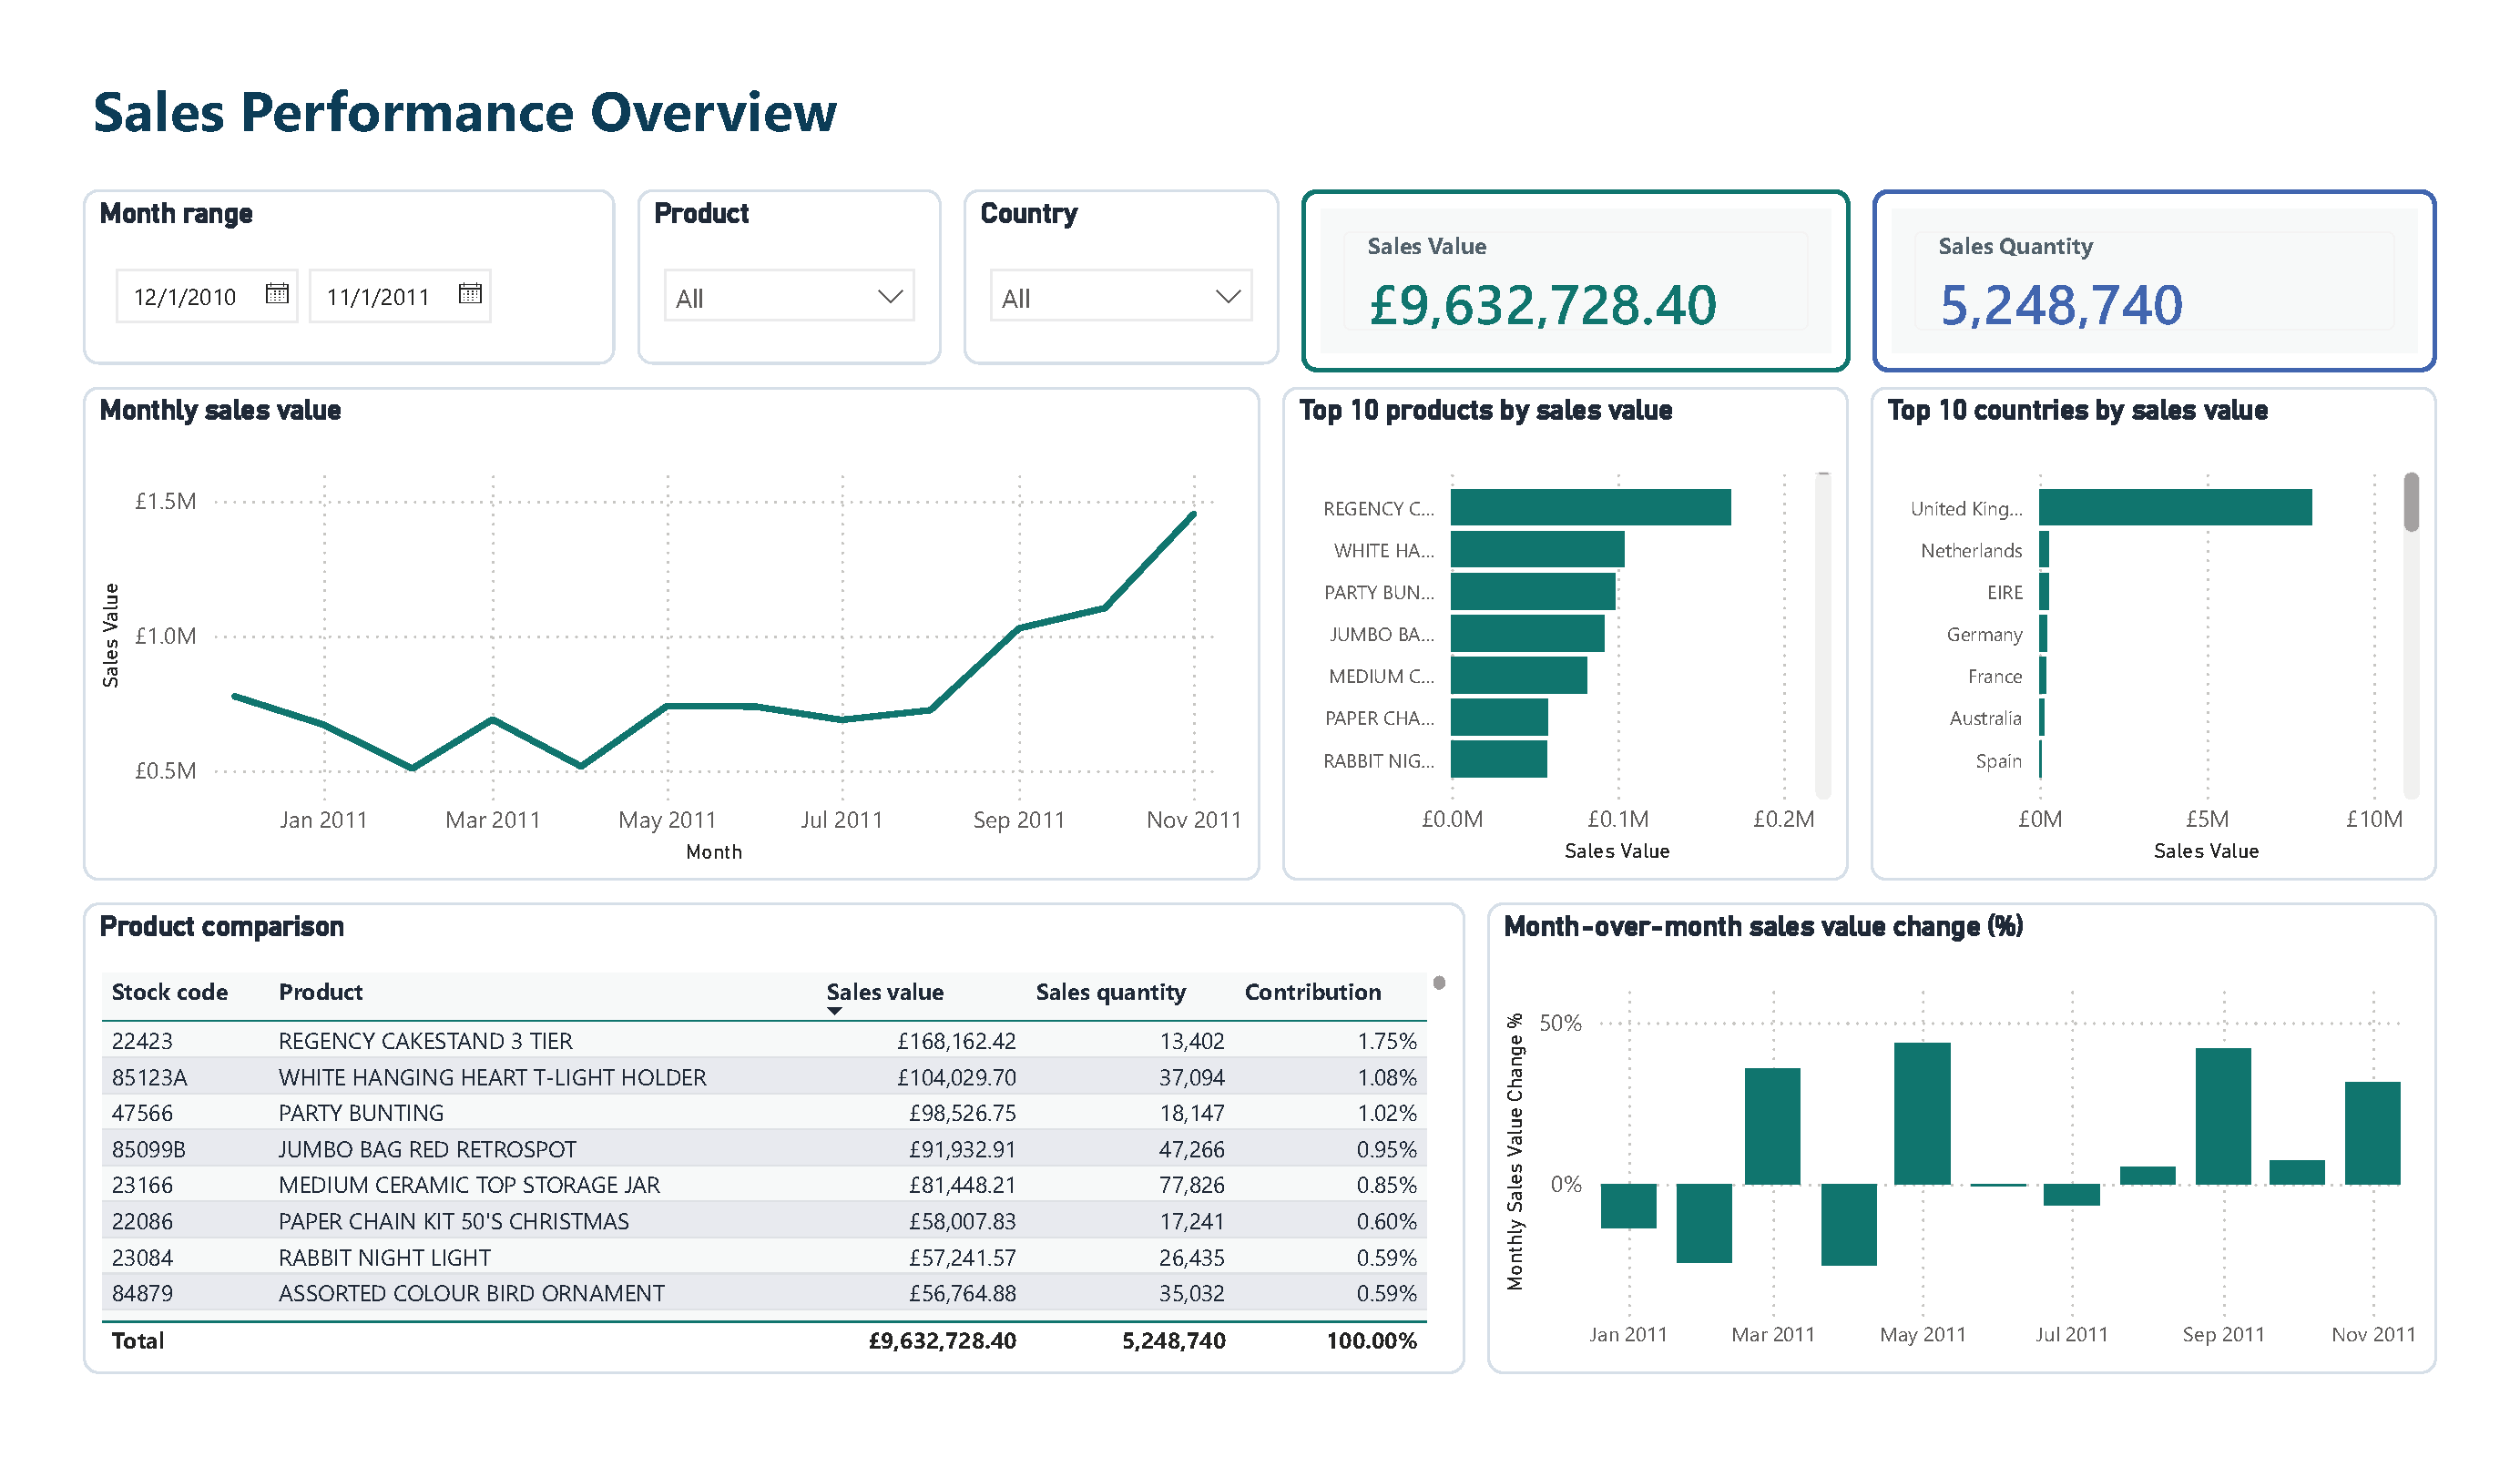

This screenshot's page, from the dashboard's own definition file:
{"tool":"powerbi","page":{"name":"Sales Performance","canvas":[1280,720],"ordinal":0},"visuals":[{"type":"textbox","box":[20,8,1240,60],"z":1000},{"type":"slicer","title":"Month range","fields":{"Values":["dim_date.month_start"]},"box":[20,76,280,92],"z":2000},{"type":"slicer","title":"Product","fields":{"Values":["dim_product.product_description"]},"box":[312,76,160,92],"z":3000},{"type":"slicer","title":"Country","fields":{"Values":["dim_country.country"]},"box":[484,76,166,92],"z":4000},{"type":"cardVisual","fields":{"Data":["fact_sales.Recorded Sales Value"]},"box":[662,76,289,96],"z":5000},{"type":"cardVisual","fields":{"Data":["fact_sales.Recorded Sales Quantity"]},"box":[963,76,297,96],"z":6000},{"type":"lineChart","title":"Monthly sales value","fields":{"Category":["dim_date.month_start"],"Y":["fact_sales.Recorded Sales Value"]},"box":[20,180,620,260],"z":7000},{"type":"clusteredBarChart","title":"Top 10 products by sales value","fields":{"Category":["dim_product.product_description"],"Y":["fact_sales.Recorded Sales Value"]},"box":[652,180,298,260],"z":8000},{"type":"clusteredBarChart","title":"Top 10 countries by sales value","fields":{"Category":["dim_country.country"],"Y":["fact_sales.Recorded Sales Value"]},"box":[962,180,298,260],"z":9000},{"type":"tableEx","title":"Product comparison","fields":{"Values":["dim_product.stock_code","dim_product.product_description","fact_sales.Recorded Sales Value","fact_sales.Recorded Sales Quantity","fact_sales.Product Sales Value Contribution %"]},"box":[20,452,728,248],"z":10000},{"type":"clusteredColumnChart","title":"Month-over-month sales value change (%)","fields":{"Category":["dim_date.month_start"],"Y":["fact_sales.Monthly Sales Value Change %"]},"box":[760,452,500,248],"z":11000}]}

Visuals, with their boxes on the page's 1280x720 design canvas (x1, y1, x2, y2). These are canvas units, not pixel positions in the 2520x1457 screenshot, which may show the page scaled, cropped or inside an application window:
textbox: locate(20, 8, 1260, 68)
"Month range" slicer: locate(20, 76, 300, 168)
"Product" slicer: locate(312, 76, 472, 168)
"Country" slicer: locate(484, 76, 650, 168)
cardVisual - fact_sales.Recorded Sales Value: locate(662, 76, 951, 172)
cardVisual - fact_sales.Recorded Sales Quantity: locate(963, 76, 1260, 172)
"Monthly sales value" lineChart: locate(20, 180, 640, 440)
"Top 10 products by sales value" clusteredBarChart: locate(652, 180, 950, 440)
"Top 10 countries by sales value" clusteredBarChart: locate(962, 180, 1260, 440)
"Product comparison" tableEx: locate(20, 452, 748, 700)
"Month-over-month sales value change (%)" clusteredColumnChart: locate(760, 452, 1260, 700)
